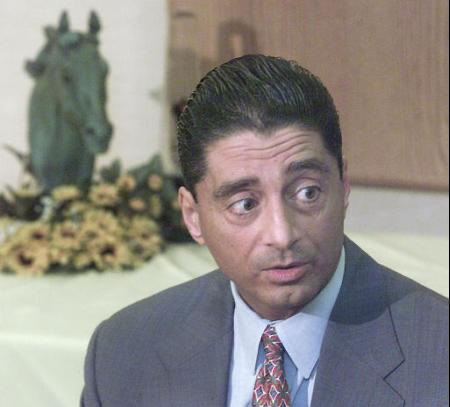Face: (192, 152, 353, 315)
